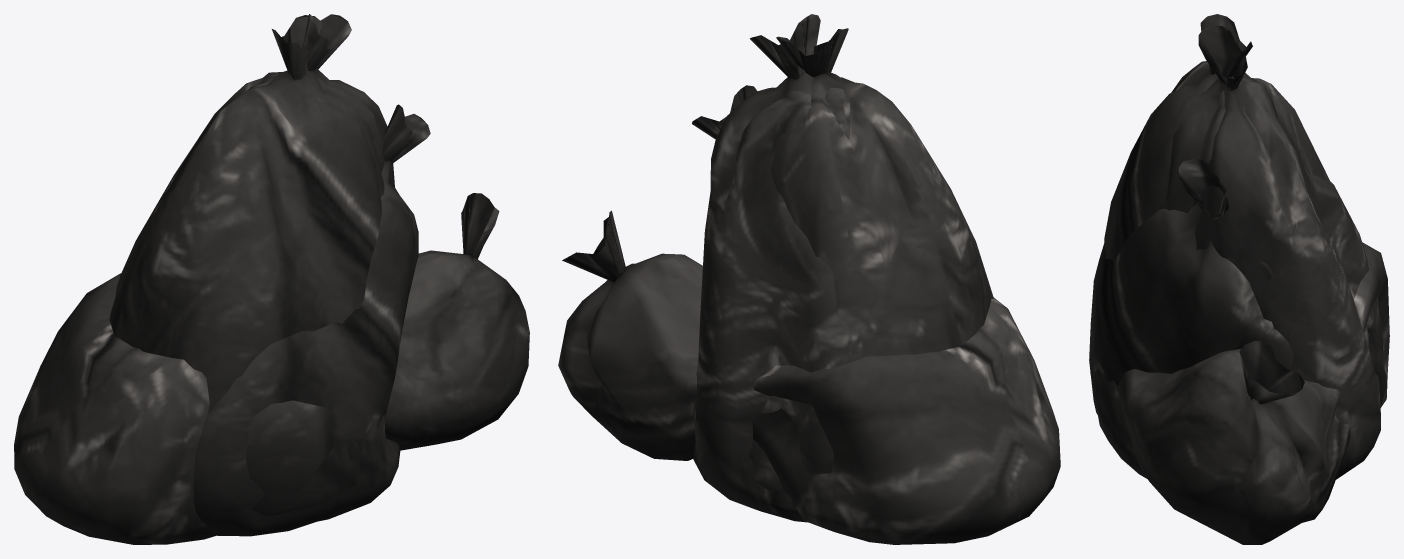
The model's file is garbagebags_02.fbx.
The picture shows the model from 3 angles, left to right: view 1: azimuth 30°, elevation 25°; view 2: azimuth 150°, elevation 25°; view 3: azimuth 270°, elevation 25°; orthographic projection. The views are drawn at different scales.
Visible parts, largest first — view 1: Mesh_ncl1_2, Mesh_ncl1_4, Mesh, Mesh_ncl1_1, Body.TrashCluster01a_corner_reference.smd.mesh_0; view 2: Mesh_ncl1_4, Body.TrashCluster01a_corner_reference.smd.mesh_0, Mesh_ncl1_2, Mesh_ncl1_3, Mesh; view 3: Body.TrashCluster01a_corner_reference.smd.mesh_0, Mesh_ncl1_4, Mesh, Mesh_ncl1_2, Mesh_ncl1_1.
Boxes of the visible parts, box(x1,y1,x2,y2) form: Mesh_ncl1_2: box(109, 15, 384, 412); Mesh_ncl1_4: box(14, 193, 529, 544); Mesh: box(193, 104, 430, 536); Mesh_ncl1_1: box(246, 400, 400, 521); Body.TrashCluster01a_corner_reference.smd.mesh_0: box(247, 14, 394, 196); Mesh_ncl1_4: box(558, 210, 1060, 544); Body.TrashCluster01a_corner_reference.smd.mesh_0: box(693, 14, 852, 522); Mesh_ncl1_2: box(770, 28, 993, 361); Mesh_ncl1_3: box(752, 396, 782, 491); Mesh: box(692, 85, 757, 139); Body.TrashCluster01a_corner_reference.smd.mesh_0: box(1164, 25, 1383, 479); Mesh_ncl1_4: box(1117, 242, 1389, 544); Mesh: box(1089, 159, 1293, 416); Mesh_ncl1_2: box(1104, 14, 1329, 261); Mesh_ncl1_1: box(1090, 327, 1367, 478).
Size of the model in its own units: 127 by 116 by 70.45.
